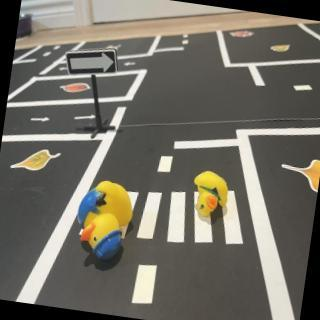duck_regular: (191, 169, 234, 221)
duck_specialty: (74, 176, 139, 262)
road_crosswalk: (120, 174, 253, 257)
road_oneway: (72, 113, 98, 125), (29, 114, 52, 127), (124, 61, 139, 69), (58, 64, 70, 73)
sign_oneway_right: (64, 41, 122, 82)
